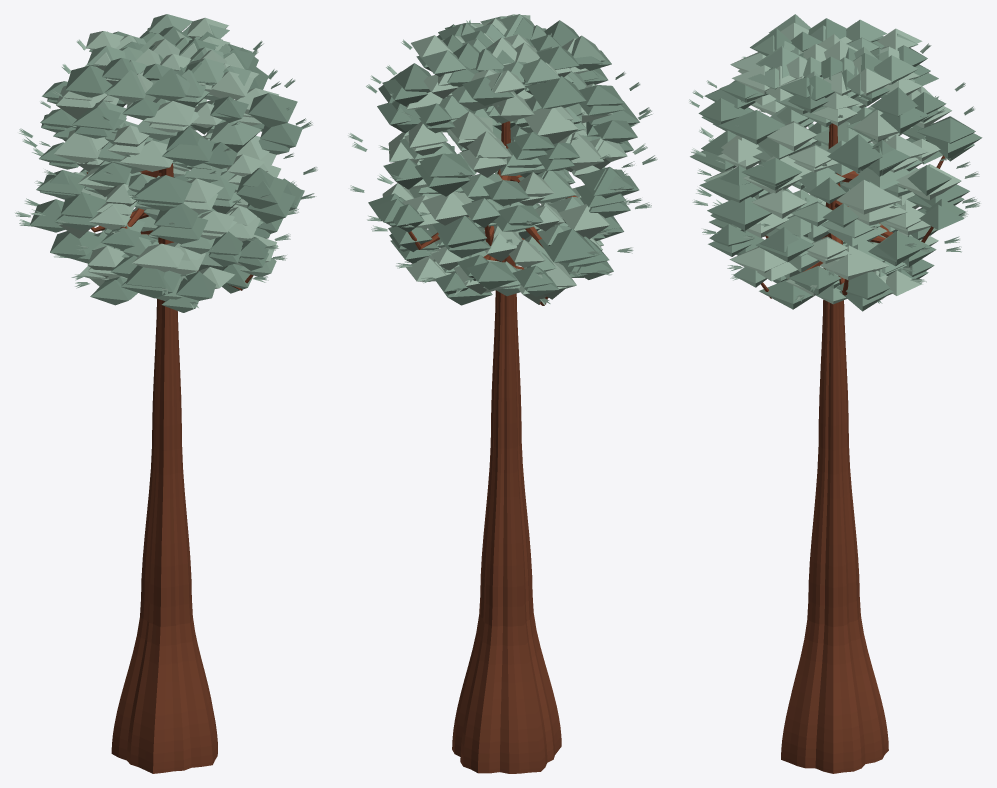
Rendered from sequoia.glb.
3 renders of one model, left to right at view 1: azimuth 30°, elevation 25°; view 2: azimuth 150°, elevation 25°; view 3: azimuth 270°, elevation 25°, orthographic.
Parts seen in each view (by area): view 1: SEQUOIA_HERO; view 2: SEQUOIA_HERO; view 3: SEQUOIA_HERO.
Part boxes in pixels (box(x1,y1,x2,y2)): SEQUOIA_HERO: box(15, 14, 317, 773); SEQUOIA_HERO: box(348, 14, 657, 773); SEQUOIA_HERO: box(689, 14, 982, 773).
Bounding box in the file's own units: 32.65 × 84.81 × 31.93.
